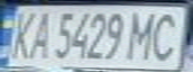2: (87, 8, 112, 60)
4: (69, 8, 93, 60)
5: (51, 8, 75, 60)
9: (103, 8, 130, 61)
A: (24, 8, 57, 61)
C: (145, 8, 190, 61)
K: (3, 8, 39, 61)
M: (124, 8, 163, 62)
